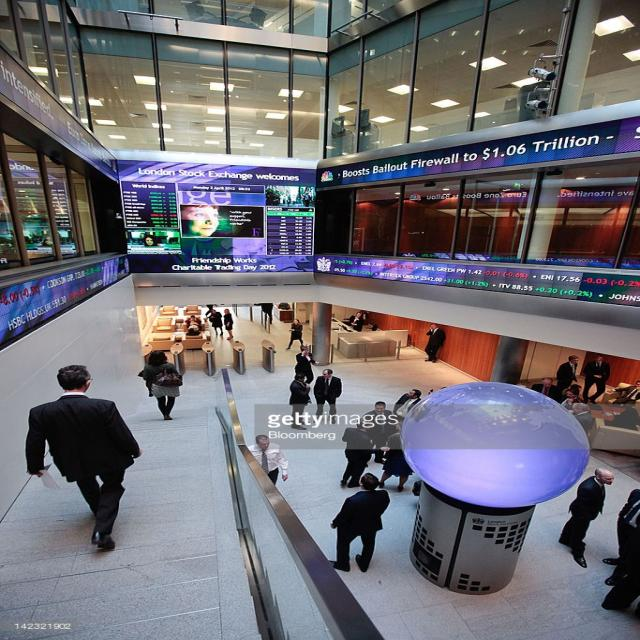body: (22, 362, 142, 552), (327, 472, 391, 573), (554, 466, 616, 570), (599, 485, 639, 621), (337, 417, 390, 489), (135, 348, 183, 420), (378, 420, 416, 492), (360, 401, 393, 465), (246, 434, 288, 484), (310, 368, 344, 426), (179, 204, 231, 237), (581, 354, 610, 406), (0, 231, 73, 251), (287, 374, 311, 431), (600, 398, 640, 432), (392, 388, 424, 422), (293, 346, 319, 385), (554, 354, 580, 392), (606, 380, 640, 409), (423, 323, 446, 363), (252, 302, 291, 324), (570, 402, 594, 437), (267, 190, 313, 206), (530, 377, 558, 401), (284, 318, 304, 350), (556, 387, 581, 411), (206, 308, 224, 336), (561, 383, 586, 403), (136, 234, 163, 250), (183, 314, 201, 336), (221, 308, 233, 340), (350, 312, 364, 332), (425, 385, 446, 395), (204, 304, 217, 316)
